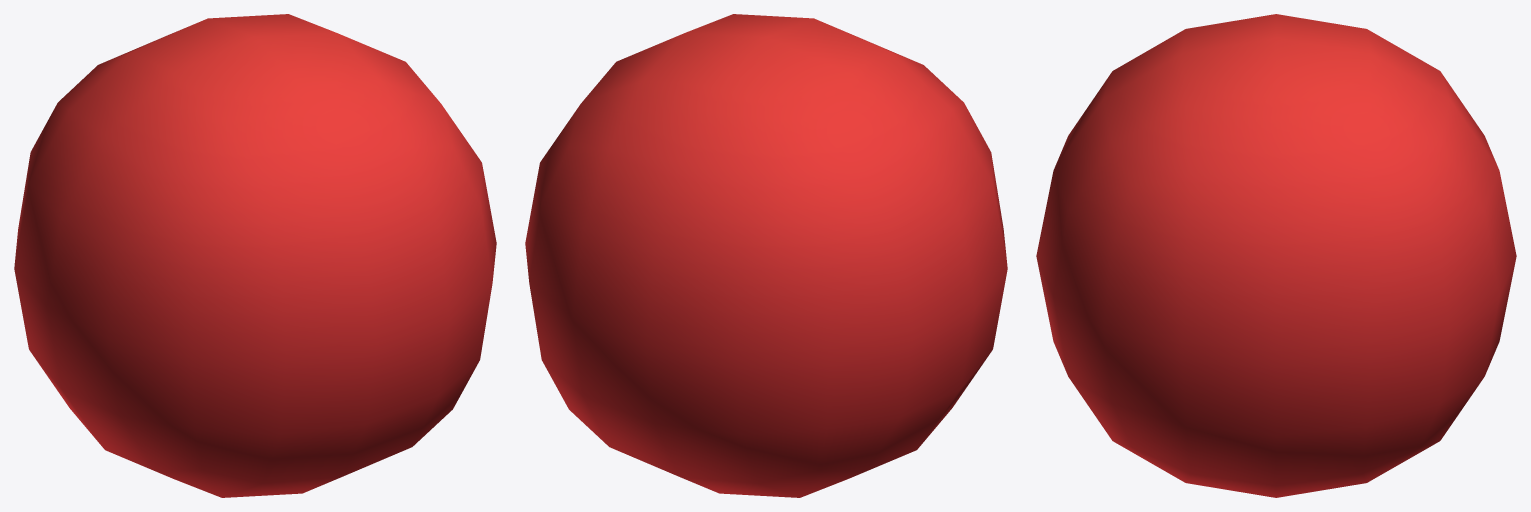
The model's file is Clown_nose_01.glb.
3 renders of one model, left to right at view 1: azimuth 30°, elevation 25°; view 2: azimuth 150°, elevation 25°; view 3: azimuth 270°, elevation 25°, orthographic.
Visible parts, largest first — view 1: Clown_nose_01; view 2: Clown_nose_01; view 3: Clown_nose_01.
Part boxes in pixels (left/top/right/bottom): Clown_nose_01: left=14, top=14, right=496, bottom=497; Clown_nose_01: left=525, top=14, right=1007, bottom=497; Clown_nose_01: left=1036, top=14, right=1516, bottom=497.
Size of the model in its own units: 0.0876 by 0.0876 by 0.0876.
Materials: 1 (1 with a texture image).
